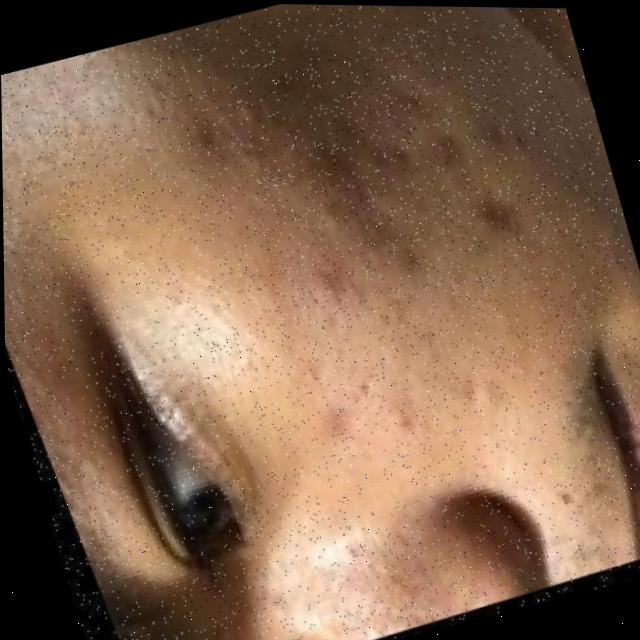Acne: (183, 49, 508, 440)
